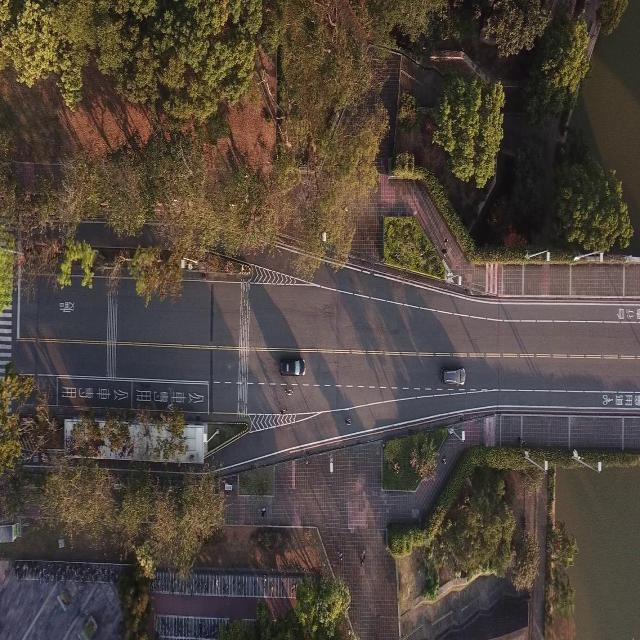bike: (343, 415, 355, 428), (282, 388, 294, 398)
car: (278, 355, 305, 377), (440, 365, 467, 386)
